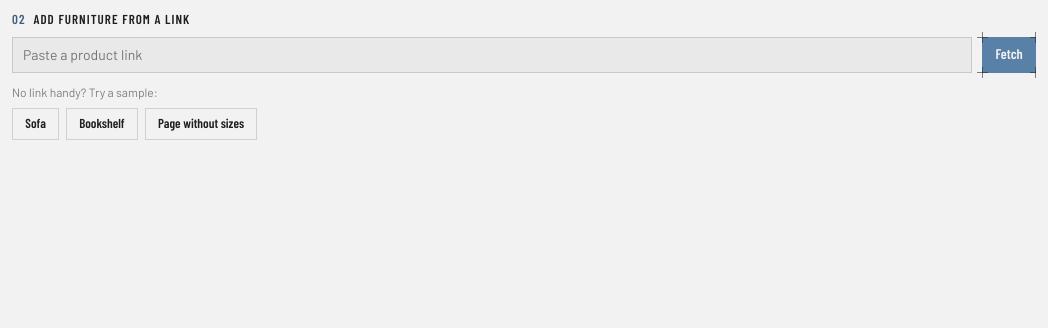
Test case: AddFurnitureSection › discards the preview without adding an item and empties the link
Click the button "Sofa".
click(36, 124)  # box [12,108,59,140]
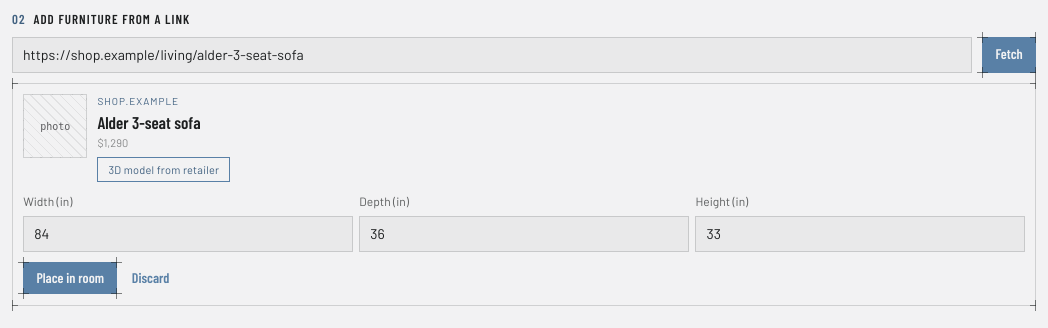
Click the button "Discard".
click(151, 278)  # box [127,262,174,294]
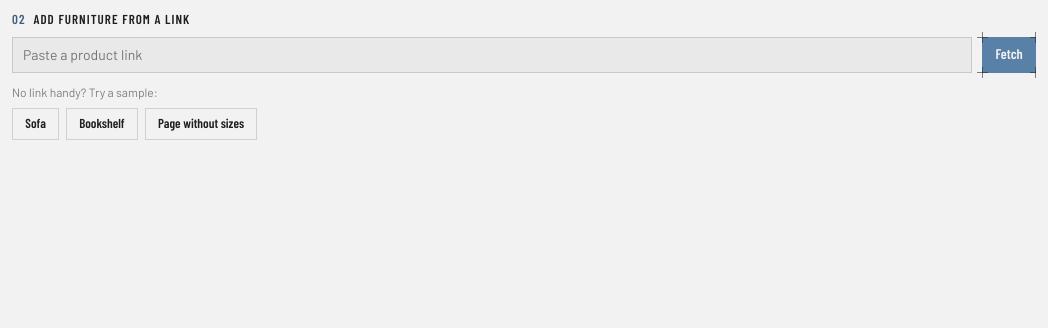
Now the field labelled "product link" is empty, box [12,37,972,73]
Now the text "Alder 3-seat sofa" is gone
